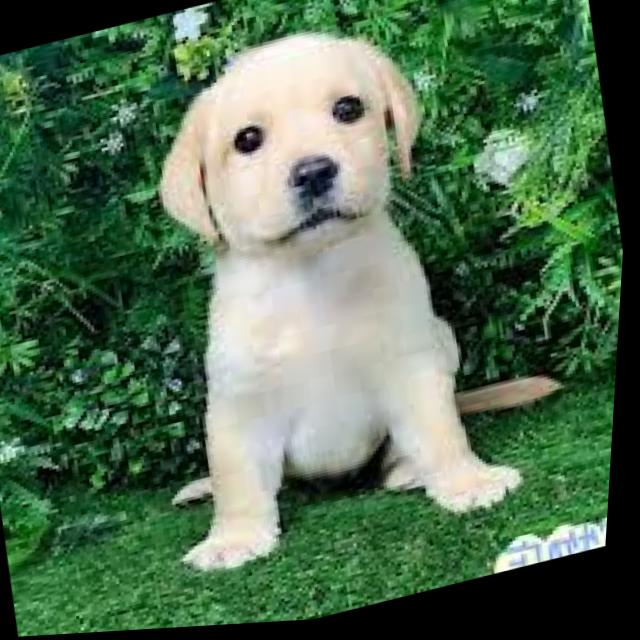dog: (94, 1, 604, 583)
